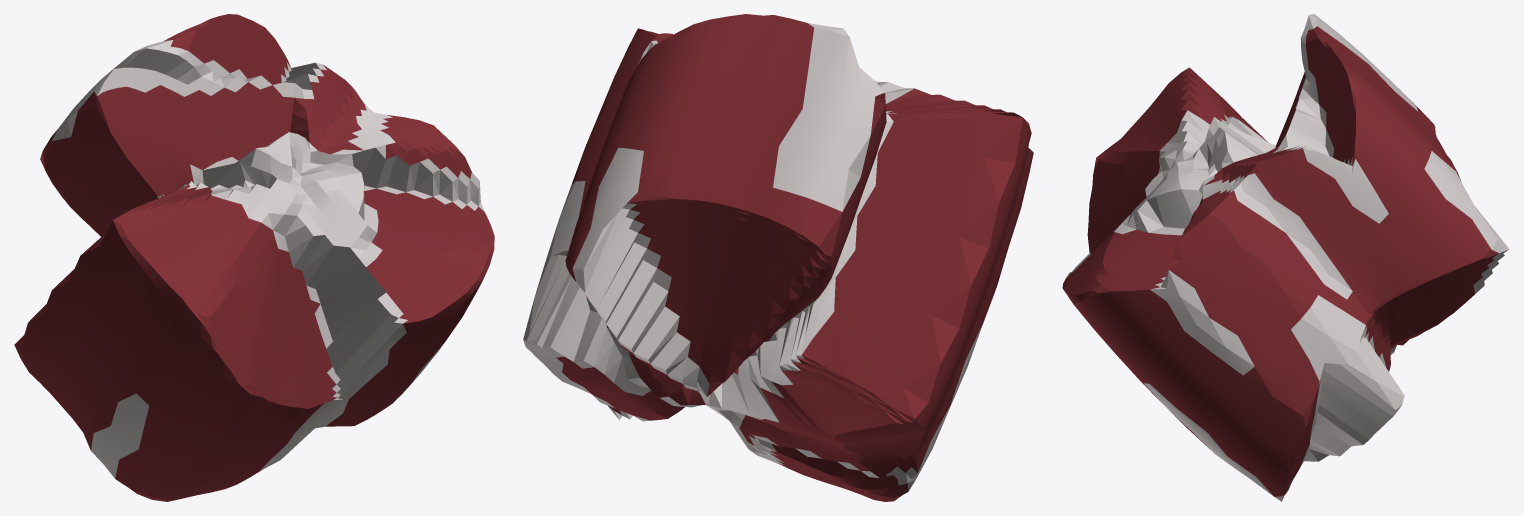
File: big-promethium-asteroid.glb
3 views of the same model, side by side, from view 1: azimuth 30°, elevation 25°; view 2: azimuth 150°, elevation 25°; view 3: azimuth 270°, elevation 25° (orthographic). The views are drawn at different scales.
Parts seen in each view (by area): view 1: body; view 2: body; view 3: body.
Boxes of the visible parts, box(x1,y1,x2,y2) form: body: box(14, 14, 494, 501); body: box(523, 14, 1033, 501); body: box(1062, 14, 1509, 501).
Bounding box in the file's own units: 5.12 × 5.77 × 5.63.
